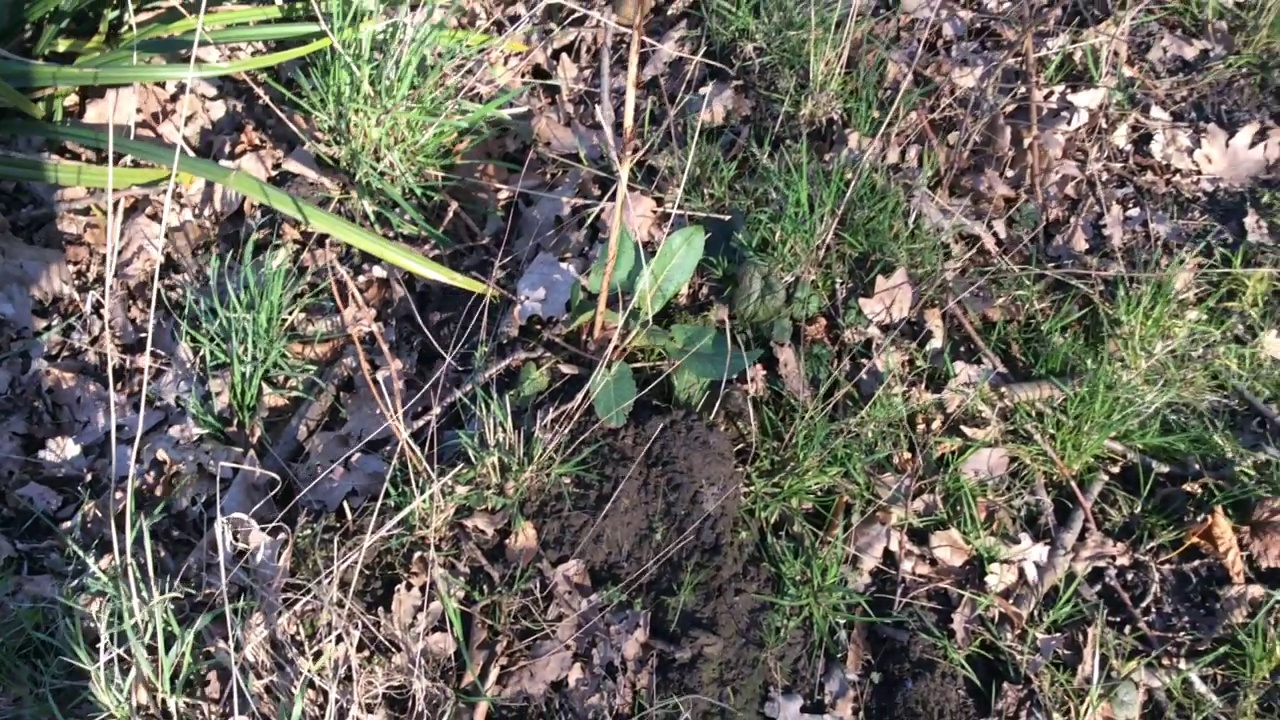rumex: (514, 225, 764, 428)
